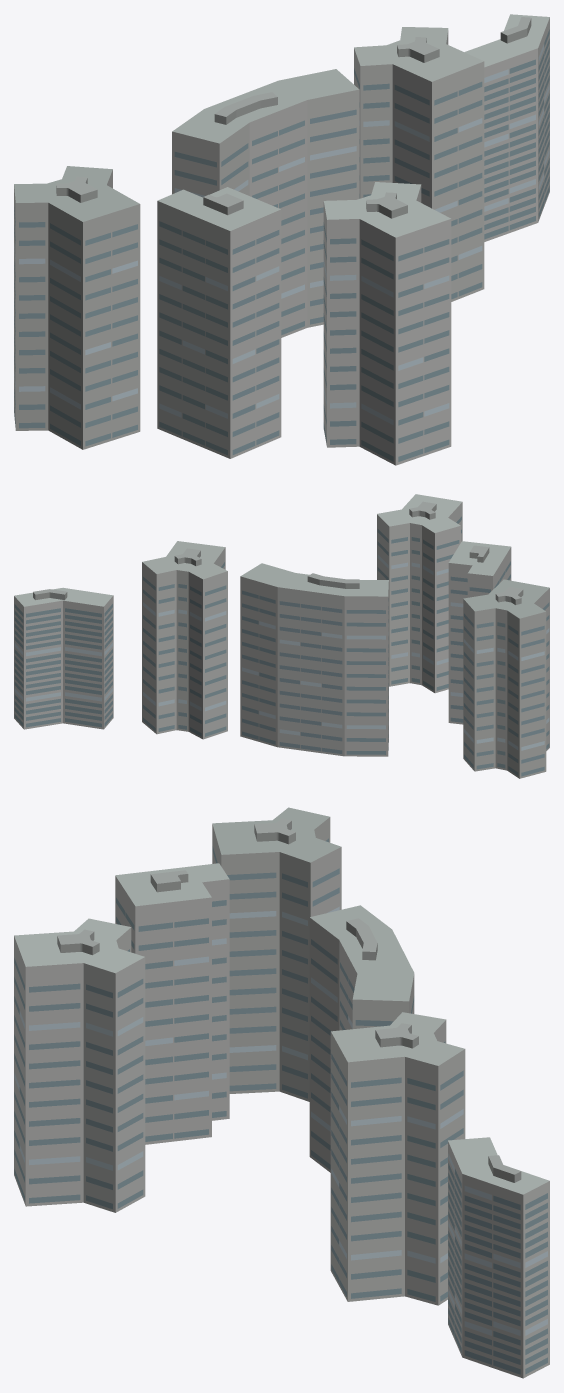
Rendered from apt-a12172401.glb.
3 views of the same model, one above another, from view 1: azimuth 30°, elevation 25°; view 2: azimuth 150°, elevation 25°; view 3: azimuth 270°, elevation 25° (orthographic). The views are drawn at different scales.
Parts seen in each view (by area): view 1: apt-a12172401; view 2: apt-a12172401; view 3: apt-a12172401.
Part boxes in pixels (box(x1,y1,x2,y2)): apt-a12172401: box(14, 14, 549, 465); apt-a12172401: box(14, 494, 549, 778); apt-a12172401: box(14, 807, 549, 1378).
Size of the model in its own units: 203 by 71 by 139.
